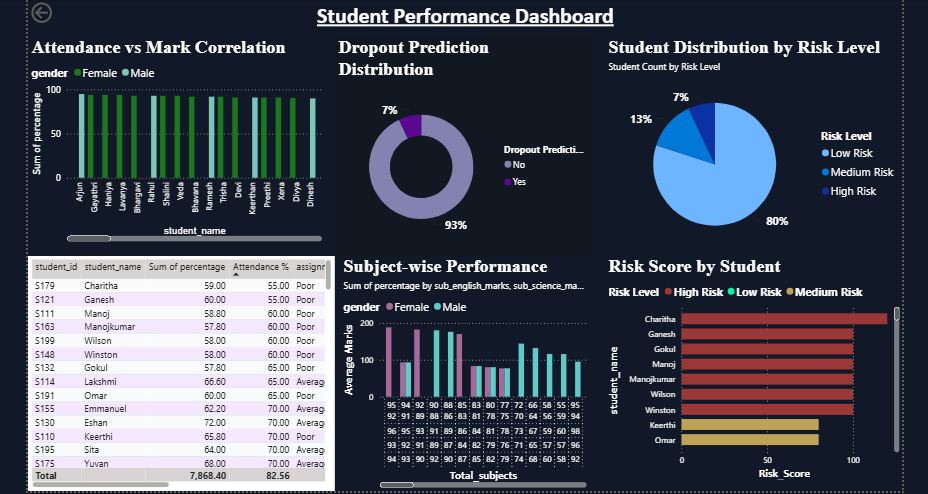

Layout of this report page (visuals, bound fields, positions):
{"tool":"powerbi","page":{"name":"Page 1","canvas":[1280,720],"ordinal":0},"visuals":[{"type":"textbox","box":[0,0,1280,55.4],"z":0},{"type":"pieChart","title":"Student Distribution by Risk Level","fields":{"Category":["student_marks.Risk Level"],"Y":["student_marks.Student Count"]},"box":[844.4,55.6,436.1,320.5],"z":1000},{"type":"clusteredColumnChart","title":"Subject-wise Performance","fields":{"Category":["student_marks.sub_english_marks","student_marks.sub_science_marks","student_marks.sub_maths_marks","student_marks.sub_social_marks","student_marks.sub_tamil_marks"],"Series":["student_marks.gender"],"Y":["Sum(student_marks.percentage)"]},"box":[456.6,376.1,365.9,343.9],"z":2000},{"type":"tableEx","fields":{"Values":["student_marks.student_id","student_marks.student_name","Sum(student_marks.percentage)","student_attendance.Attendance %","student_assignment_completion.completion_category","student_marks.Risk Level","Sum(student_marks.Risk Score)","student_marks.Dropout Prediction"]},"box":[0,375.7,448.6,344.3],"z":3000},{"type":"barChart","title":"Risk Score by Student","fields":{"Category":["student_attendance.student_name"],"Series":["student_marks.Risk Level"],"Y":["Sum(student_marks.Risk Score)"]},"box":[844.4,376.1,436.1,332.2],"z":4000},{"type":"donutChart","title":"Dropout Prediction Distribution","fields":{"Category":["student_marks.Dropout Prediction"],"Y":["student_marks.Student Count"]},"box":[448.6,55.7,374.3,320],"z":5000},{"type":"actionButton","box":[0,0,100,40],"z":6000},{"type":"clusteredColumnChart","title":"Attendance vs Mark Correlation","fields":{"Category":["student_attendance.student_name"],"Y":["Sum(student_marks.percentage)"],"Series":["student_marks.gender"]},"box":[0,56,435,304],"z":7000}]}

Visuals, with their boxes in screenshot pixels (x1, y1, x2, y2):
textbox: box(34, 10, 898, 47)
"Student Distribution by Risk Level" pieChart: box(604, 47, 899, 264)
"Subject-wise Performance" clusteredColumnChart: box(342, 264, 589, 493)
tableEx - student_marks.student_id x student_marks.student_name: box(34, 263, 337, 493)
"Risk Score by Student" barChart: box(604, 264, 899, 488)
"Dropout Prediction Distribution" donutChart: box(337, 47, 590, 263)
actionButton: box(34, 10, 101, 37)
"Attendance vs Mark Correlation" clusteredColumnChart: box(34, 47, 328, 253)
